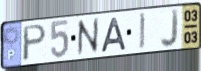5: (49, 18, 70, 61)
A: (99, 16, 129, 54)
I: (138, 10, 147, 52)
J: (159, 7, 180, 50)
N: (76, 16, 101, 59)
P: (21, 23, 48, 64)
